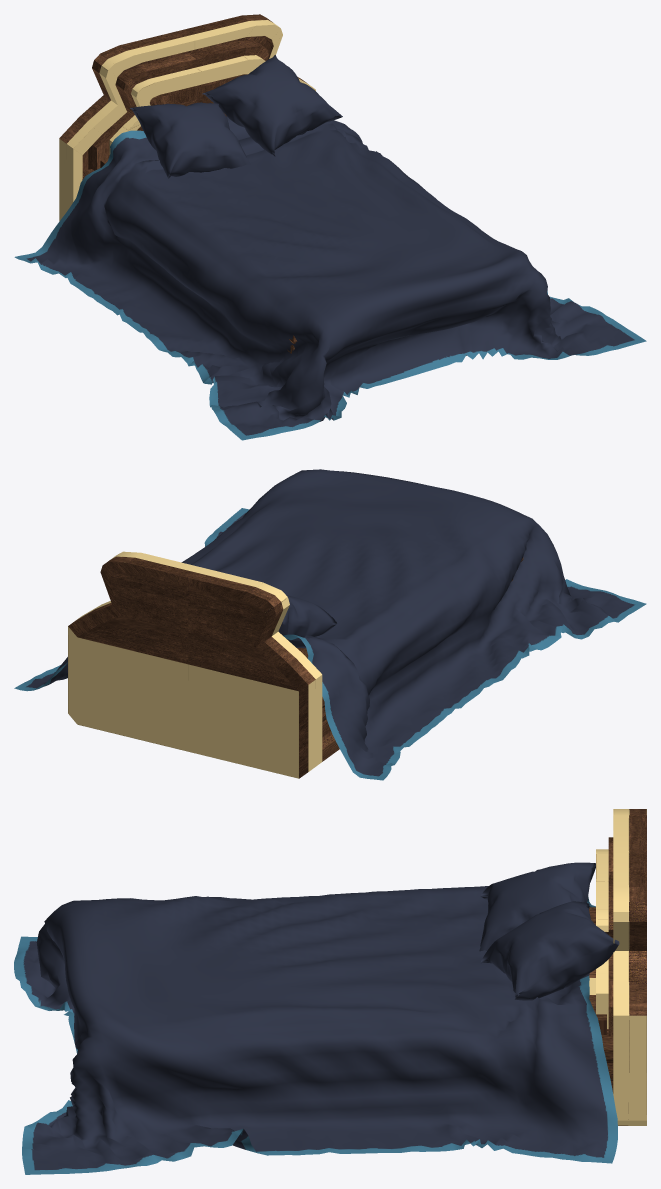
Rendered from bed.fbx.
3 renders of one model, top to bottom at view 1: azimuth 30°, elevation 25°; view 2: azimuth 150°, elevation 25°; view 3: azimuth 270°, elevation 25°, orthographic. The views are drawn at different scales.
Parts seen in each view (by area): view 1: bed; view 2: bed; view 3: bed.
Part boxes in pixels (left/top/right/bottom): bed: left=14, top=14, right=646, bottom=440; bed: left=14, top=469, right=646, bottom=780; bed: left=14, top=809, right=646, bottom=1174.
Size of the model in its own units: 197 by 84.88 by 223.
